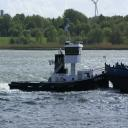tugboat: (8, 40, 111, 96)
